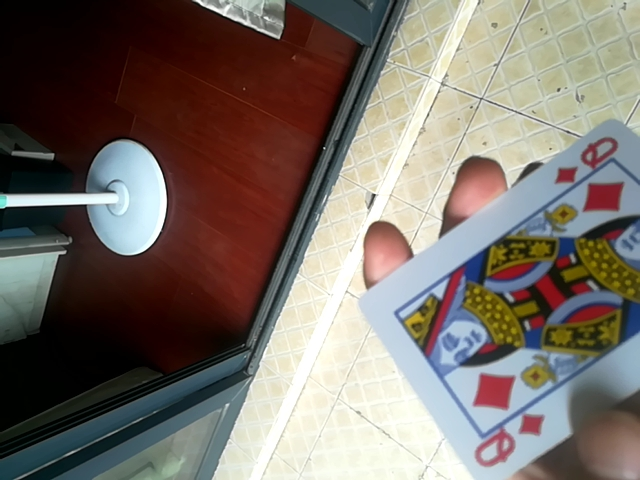fk q: (357, 125, 638, 476)
